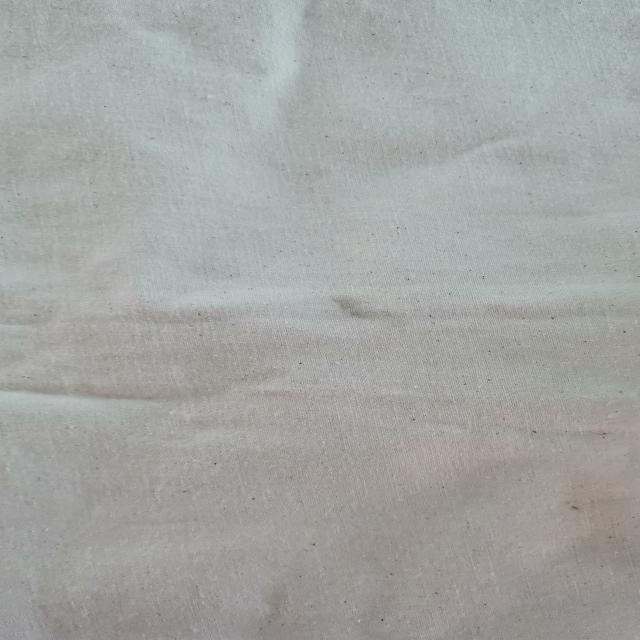taaaches: (318, 282, 406, 340), (122, 1, 250, 28)
